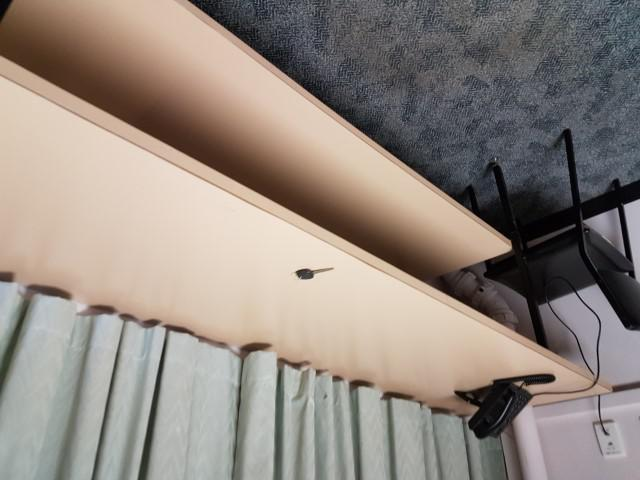key: (298, 265, 334, 279)
